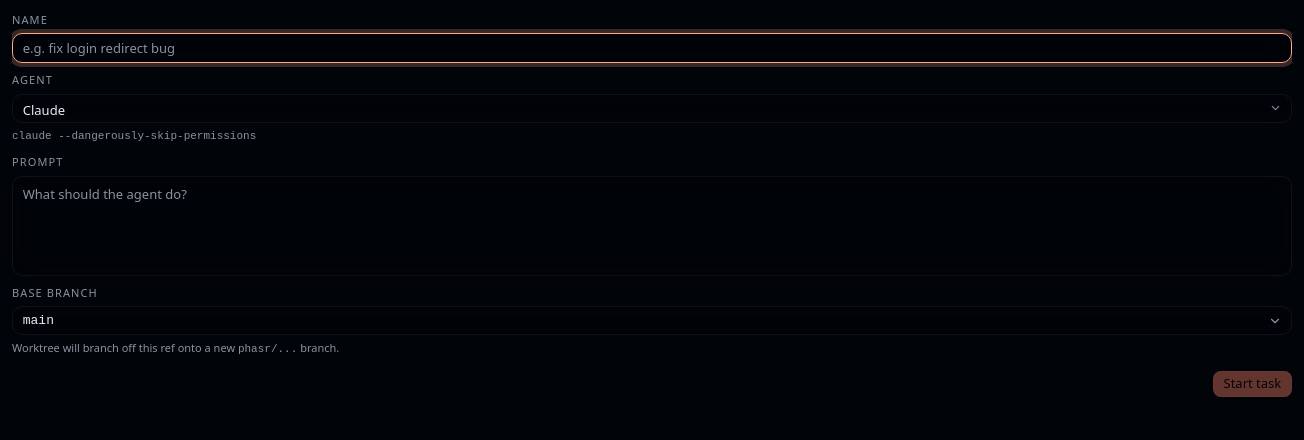
Test: NewTaskForm › surfaces backend errors inline without throwing
The image size is (1304, 440).
Expected: the text "claude --dangerously-skip-permissions" is shown, [12,130,256,142]
Type "broken task" into the field with placeholder "e.g. fix login redirect bug" at (652, 48), box [12,33,1292,63]
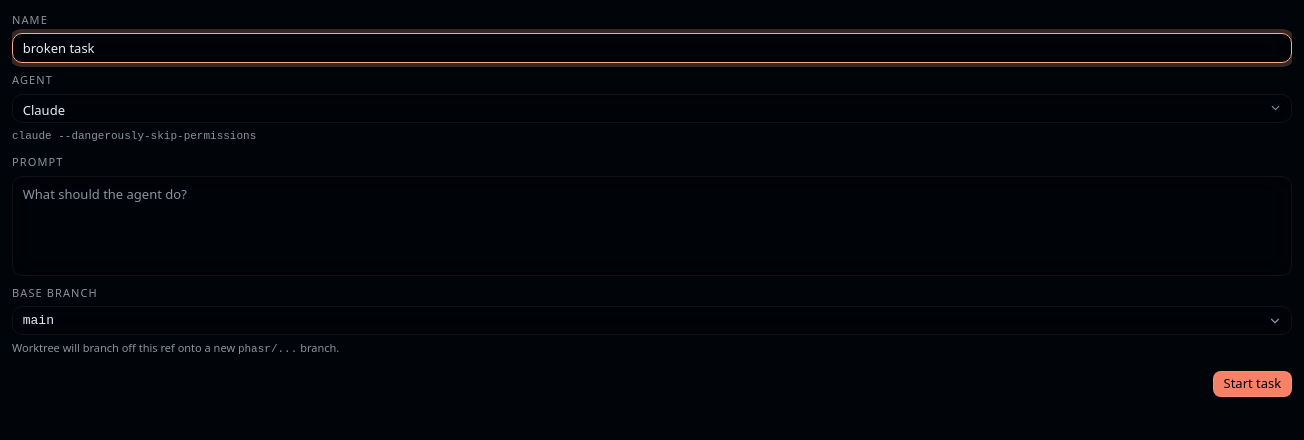
Click the button "Start task" at (1252, 384), box [1213,371,1292,397]
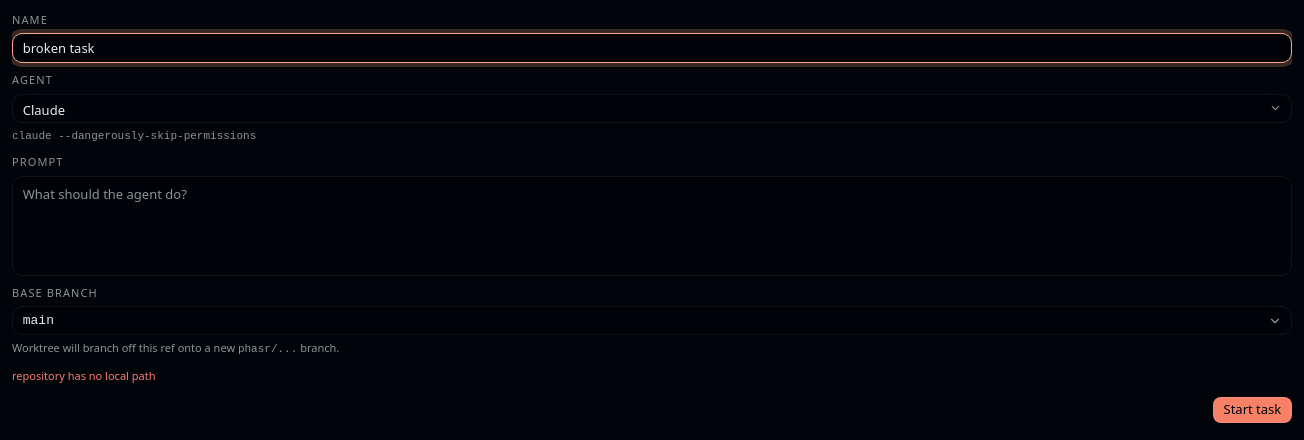
Expected: the text "repository has no local path" is shown, [12,368,156,382]
